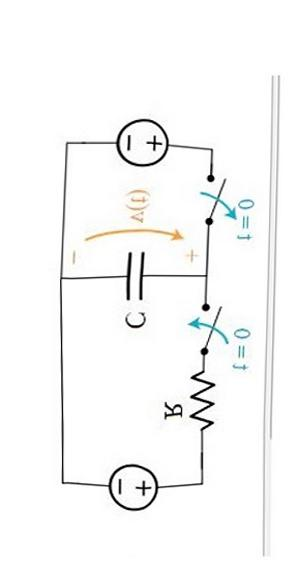Battery: (95, 103, 184, 181)
